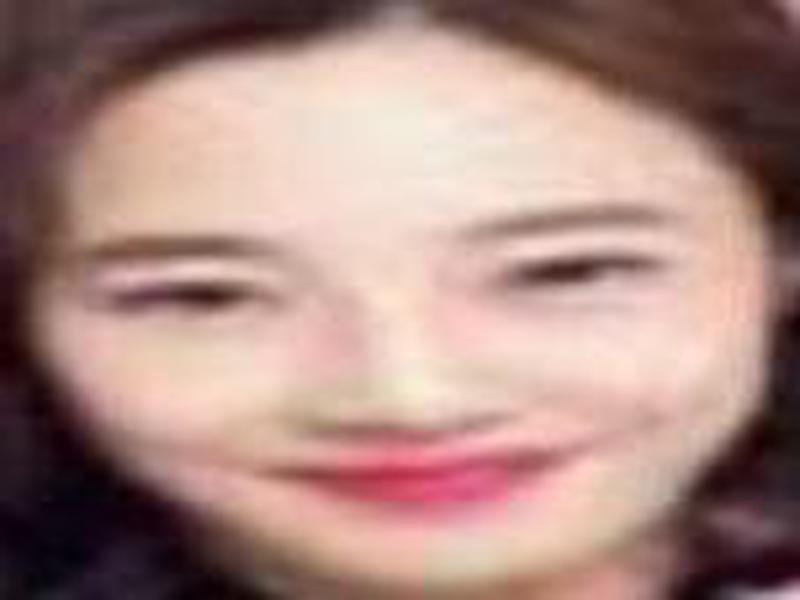without_mask: (31, 48, 768, 591)
